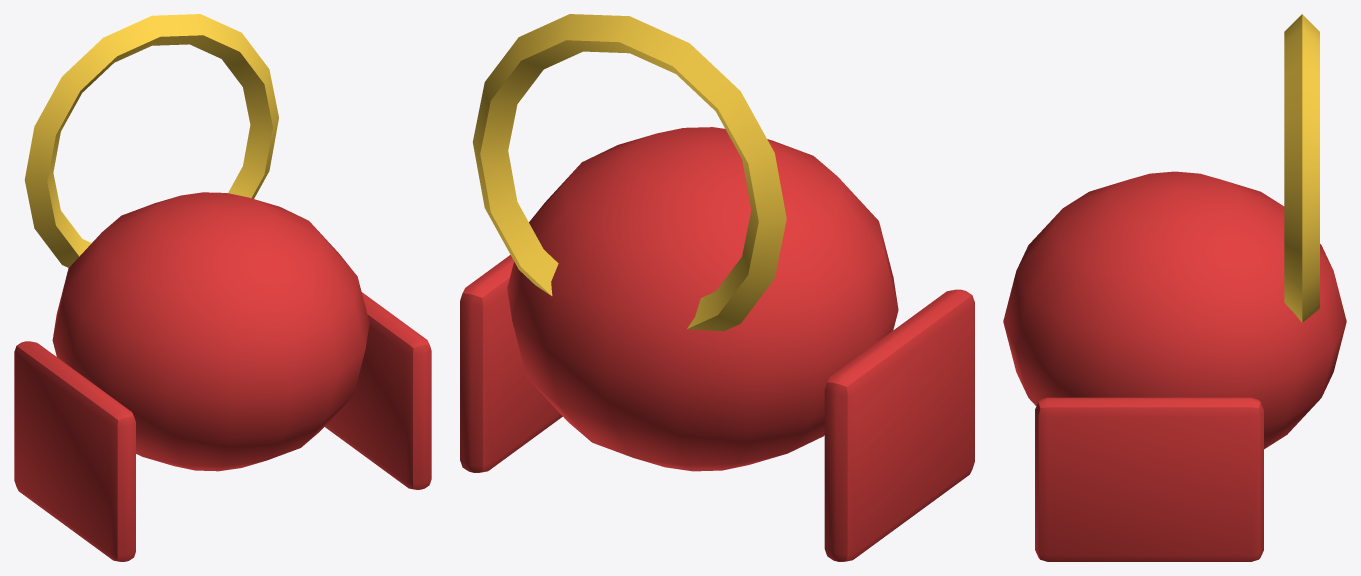
File: AccKabuto.fbx
3 renders of one model, left to right at view 1: azimuth 30°, elevation 25°; view 2: azimuth 150°, elevation 25°; view 3: azimuth 270°, elevation 25°, orthographic. The views are drawn at different scales.
Visible parts, largest first — view 1: AccKabuto; view 2: AccKabuto; view 3: AccKabuto.
Boxes of the visible parts, x1,y1,x2,y2 form: AccKabuto: (14,14,431,561); AccKabuto: (460,14,974,561); AccKabuto: (1003,14,1346,561).
Size of the model in its own units: 156 by 197 by 135.
